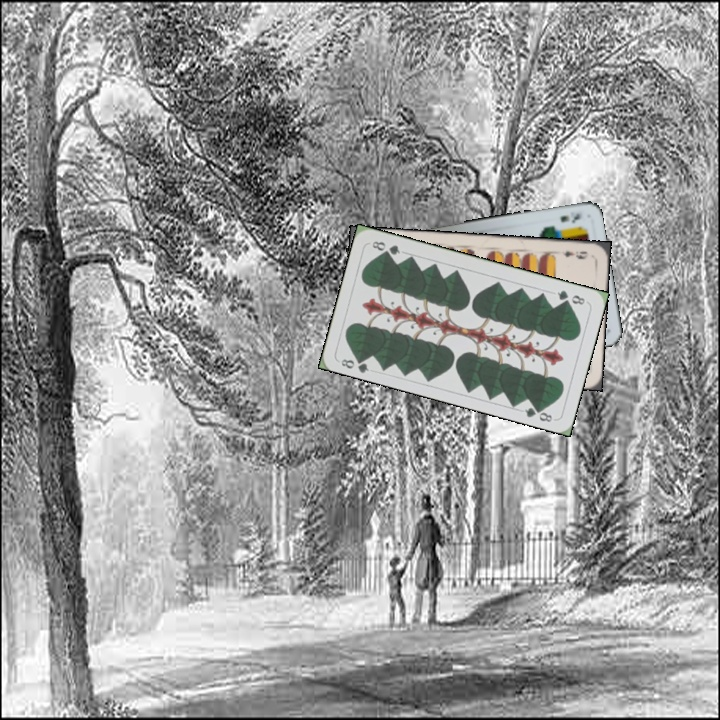E9: (558, 247, 591, 262)
EK: (556, 210, 583, 225)
G8: (337, 352, 371, 375), (553, 286, 588, 307)
